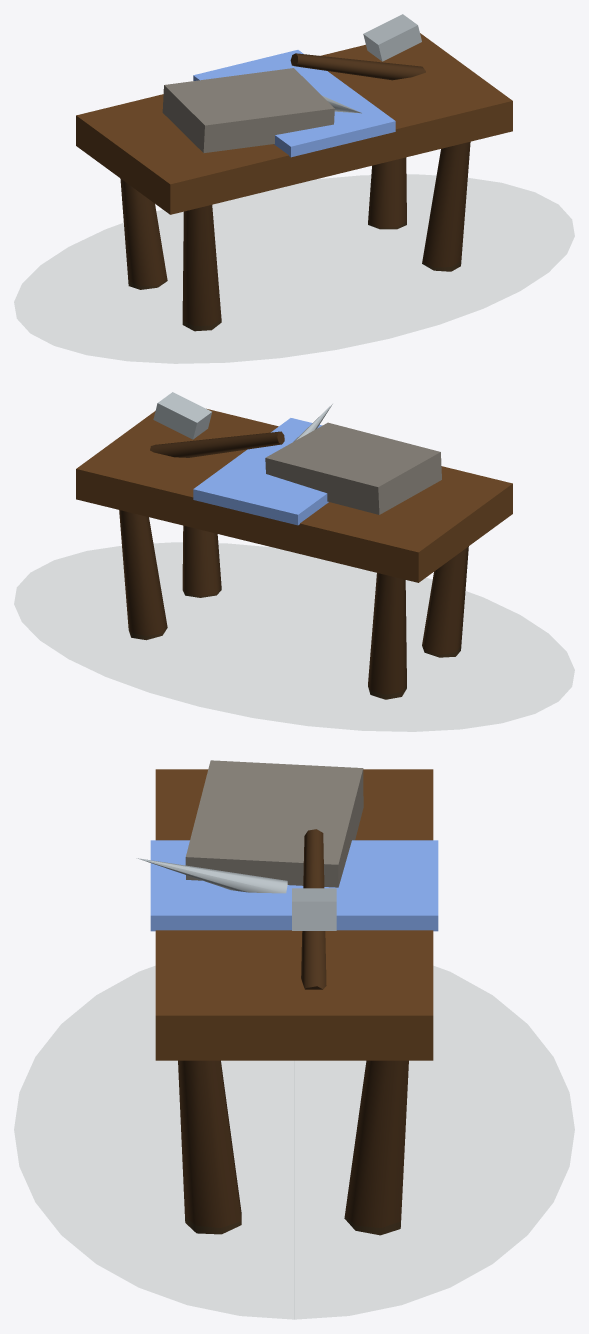
Rendered from tribe_workbench.glb.
3 views of the same model, one above another, from view 1: azimuth 30°, elevation 25°; view 2: azimuth 150°, elevation 25°; view 3: azimuth 270°, elevation 25° (orthographic). The views are drawn at different scales.
Visible parts, largest first — view 1: soft_ground_shadow, thick_table_top, flat_knapping_stone, colored_binding, splayed_leg_0.86_0.36, splayed_leg_-0.86_0.36, splayed_leg_-0.86_-0.36, splayed_leg_0.86_-0.36, stone_axe_handle, stone_axe_head; view 2: soft_ground_shadow, thick_table_top, flat_knapping_stone, colored_binding, splayed_leg_0.86_-0.36, splayed_leg_-0.86_-0.36, splayed_leg_-0.86_0.36, splayed_leg_0.86_0.36, stone_axe_handle, stone_axe_head; view 3: soft_ground_shadow, thick_table_top, flat_knapping_stone, colored_binding, splayed_leg_0.86_0.36, splayed_leg_0.86_-0.36, stone_axe_handle, stone_axe_head, bone_awl.
Part boxes in pixels (bbox=[...]): soft_ground_shadow: bbox=[15, 175, 573, 363]; thick_table_top: bbox=[76, 33, 512, 214]; flat_knapping_stone: bbox=[162, 68, 334, 152]; colored_binding: bbox=[193, 50, 395, 157]; splayed_leg_0.86_0.36: bbox=[422, 141, 470, 271]; splayed_leg_-0.86_0.36: bbox=[182, 205, 221, 331]; splayed_leg_-0.86_-0.36: bbox=[120, 178, 167, 289]; splayed_leg_0.86_-0.36: bbox=[368, 157, 406, 229]; stone_axe_handle: bbox=[290, 53, 425, 80]; stone_axe_head: bbox=[363, 14, 421, 61]; soft_ground_shadow: bbox=[15, 543, 574, 731]; thick_table_top: bbox=[76, 408, 512, 582]; flat_knapping_stone: bbox=[265, 422, 441, 514]; colored_binding: bbox=[193, 418, 328, 525]; splayed_leg_0.86_-0.36: bbox=[119, 510, 167, 640]; splayed_leg_-0.86_-0.36: bbox=[368, 573, 406, 699]; splayed_leg_-0.86_0.36: bbox=[422, 546, 468, 657]; splayed_leg_0.86_0.36: bbox=[182, 525, 221, 597]; stone_axe_handle: bbox=[150, 431, 284, 457]; stone_axe_head: bbox=[153, 392, 211, 439]; soft_ground_shadow: bbox=[14, 966, 574, 1318]; thick_table_top: bbox=[155, 769, 433, 1060]; flat_knapping_stone: bbox=[185, 760, 363, 887]; colored_binding: bbox=[150, 840, 438, 931]; splayed_leg_0.86_0.36: bbox=[178, 1060, 241, 1234]; splayed_leg_0.86_-0.36: bbox=[344, 1060, 408, 1235]; stone_axe_handle: bbox=[301, 829, 326, 989]; stone_axe_head: bbox=[292, 888, 336, 930]; bone_awl: bbox=[136, 858, 287, 893].
Bounding box in the file's own units: 3.63 × 1.44 × 2.26.
